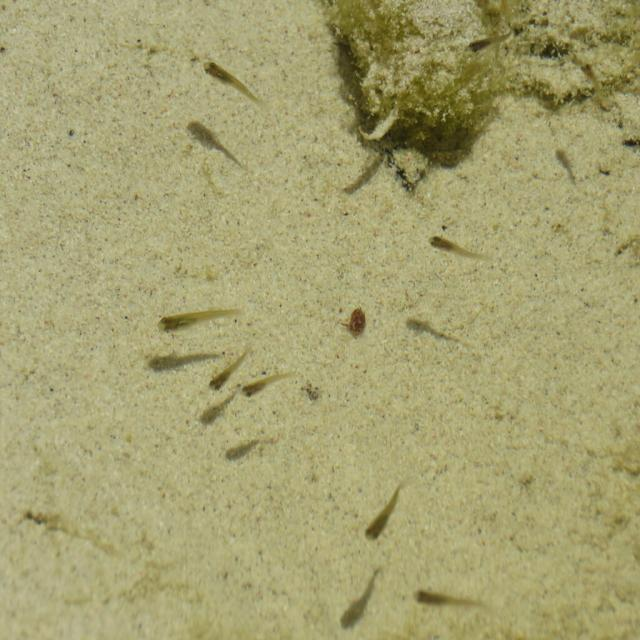Sivrisinek Baligi: (181, 120, 243, 164), (336, 572, 381, 632), (200, 59, 260, 100), (363, 488, 403, 543), (158, 309, 236, 336), (424, 229, 486, 257), (210, 348, 247, 394), (143, 352, 217, 375), (243, 370, 295, 401), (412, 588, 482, 609), (219, 439, 260, 469)
